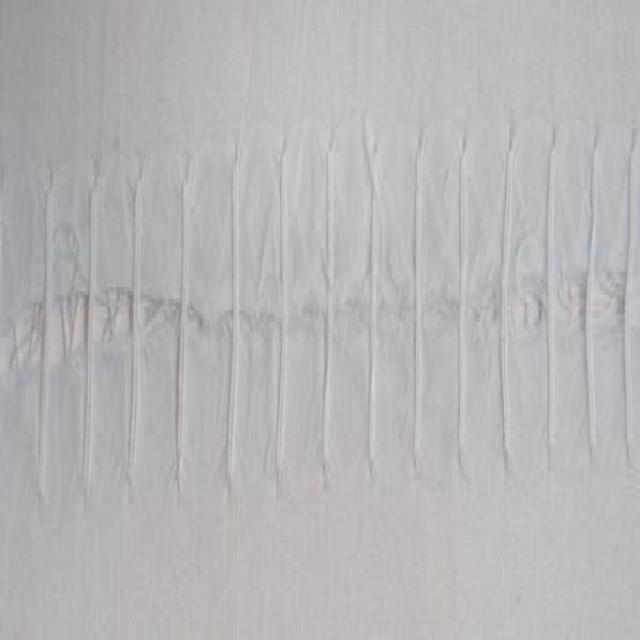gray stitch: (35, 109, 640, 508)
